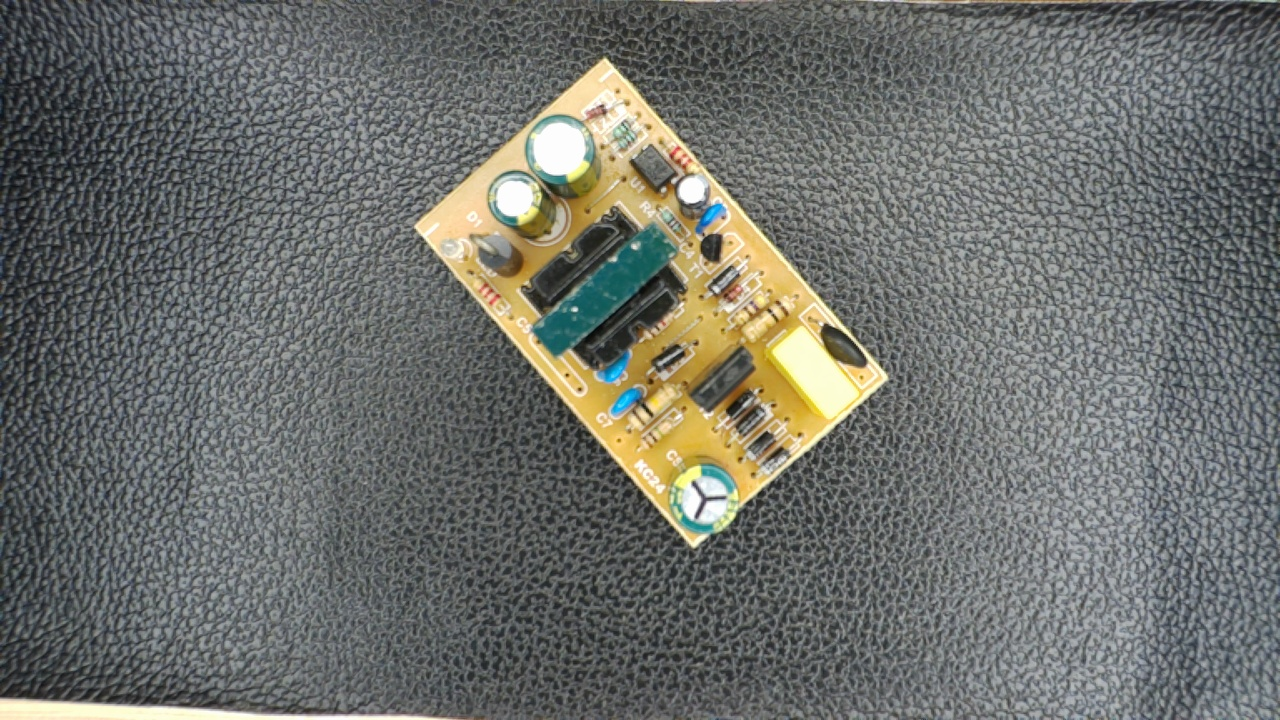fuse: (804, 312, 872, 374)
hv_capacitor: (663, 458, 741, 537)
optocoupler: (624, 141, 678, 200)
